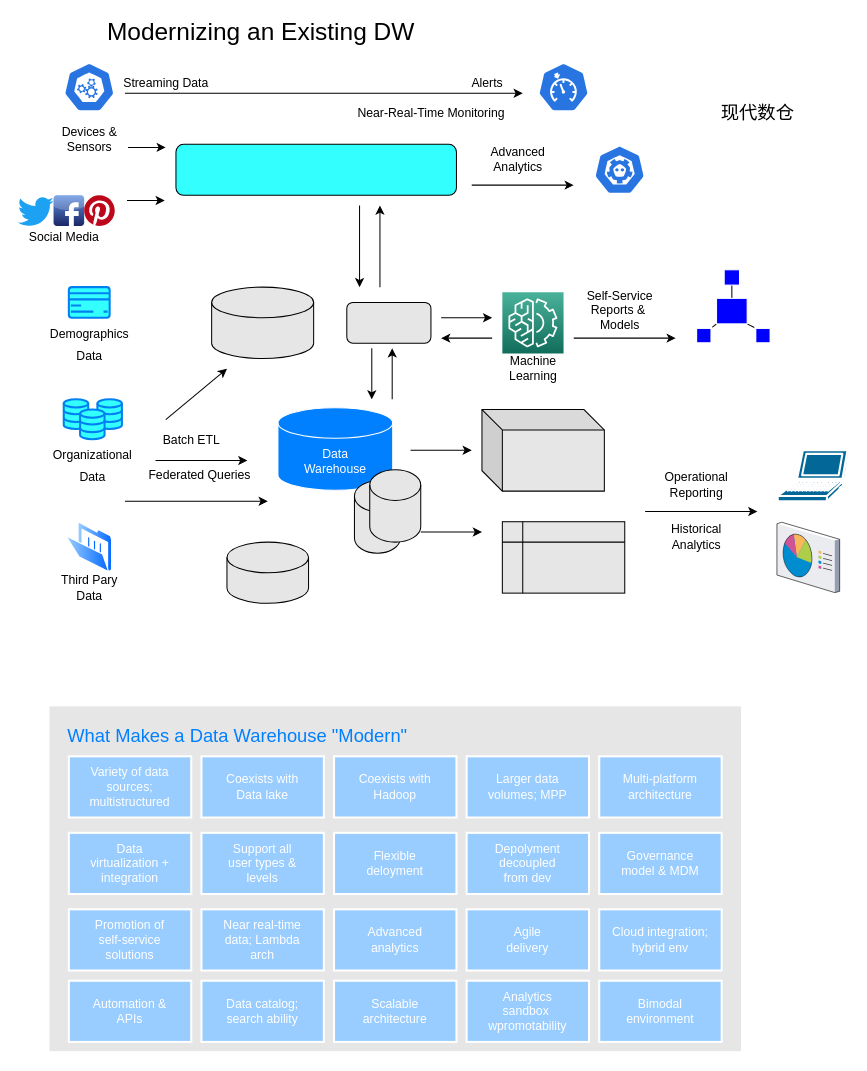
This 867x1071 diagram has some shape labels left out. The box of each missing label's shape, as (x1, y1, x2, y2) in pixels:
Data Lake: (175, 143, 456, 195)
Data Marts: (369, 469, 421, 542)
Hadoop: (346, 301, 431, 343)
In-Memory Model: (501, 521, 625, 593)
Master Data: (226, 541, 309, 603)
OLAP Semantic Layer: (481, 409, 604, 491)
Operational Data Store: (211, 286, 314, 359)
